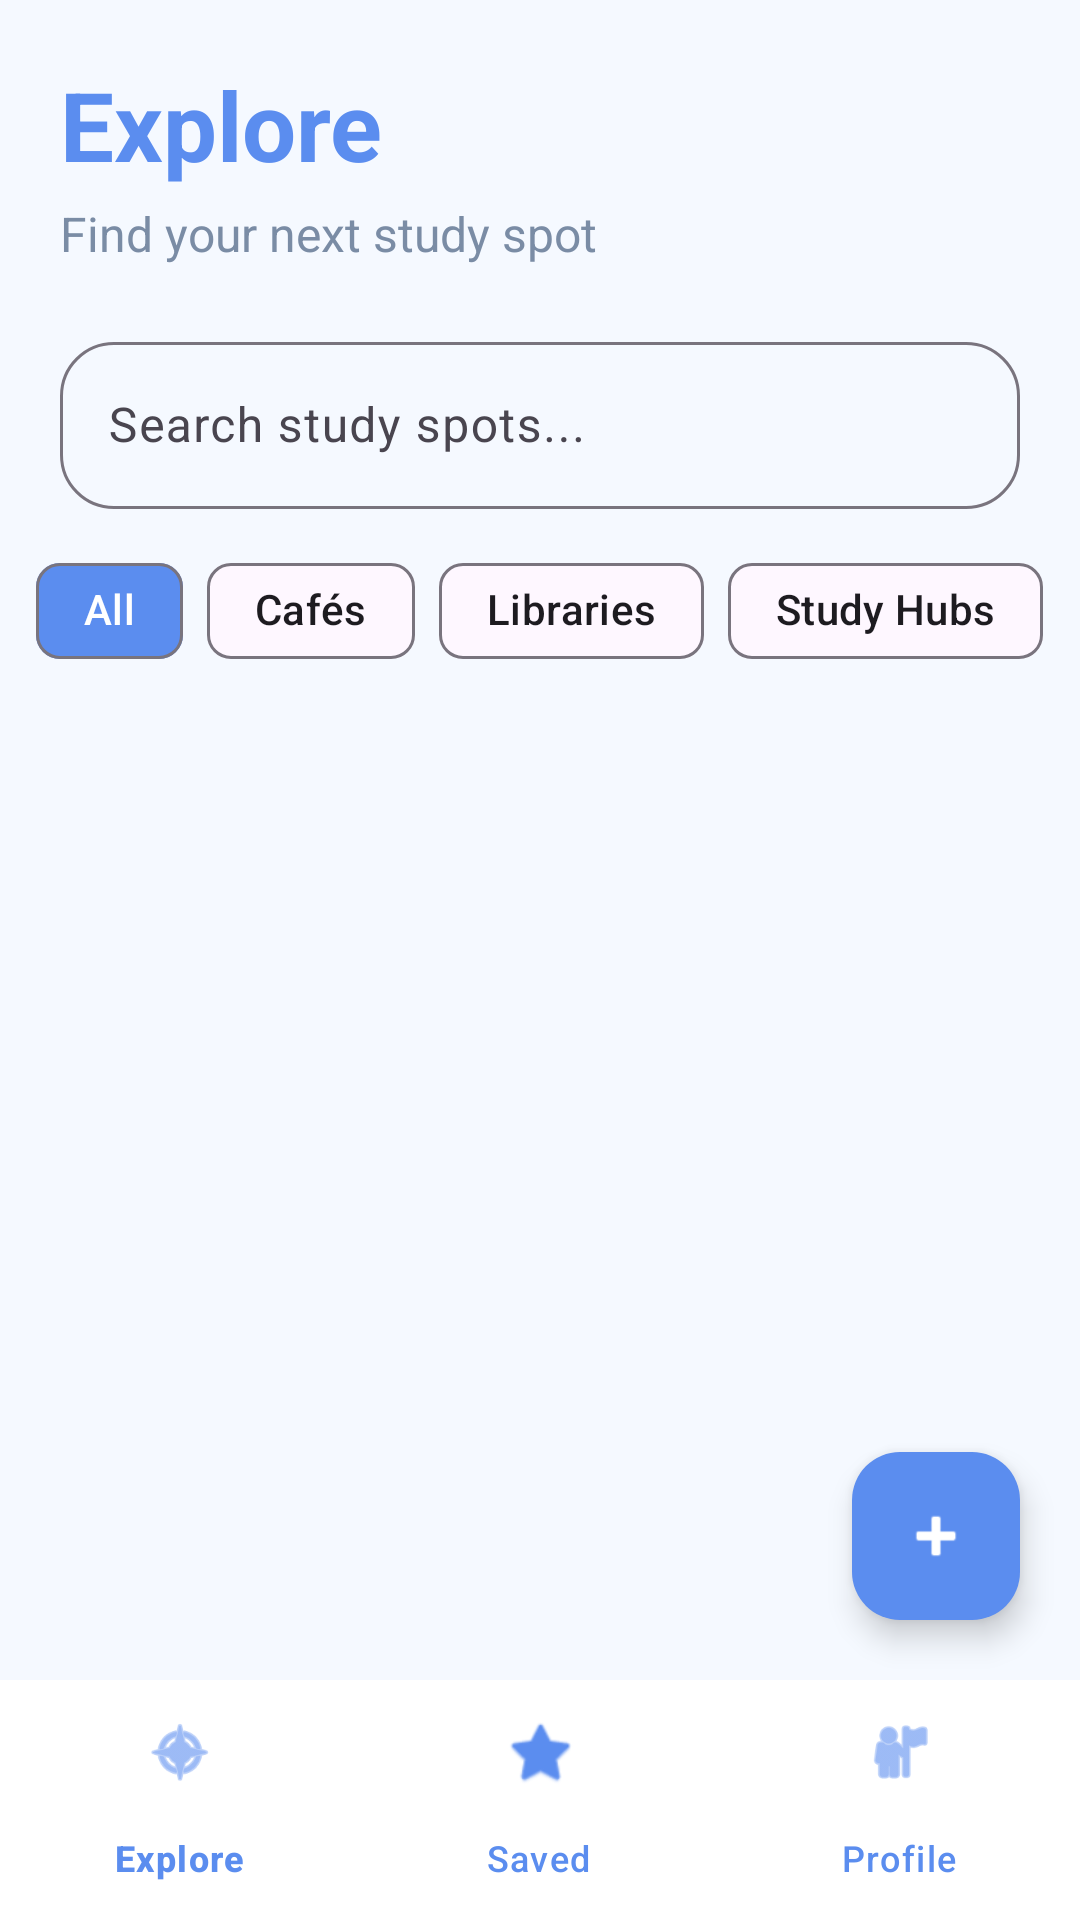

Point at icon controls on the screen. Image size 1080px x 1920px, points as point (x, y).
Add new spot entry shortcut link button: point (936, 1536)
